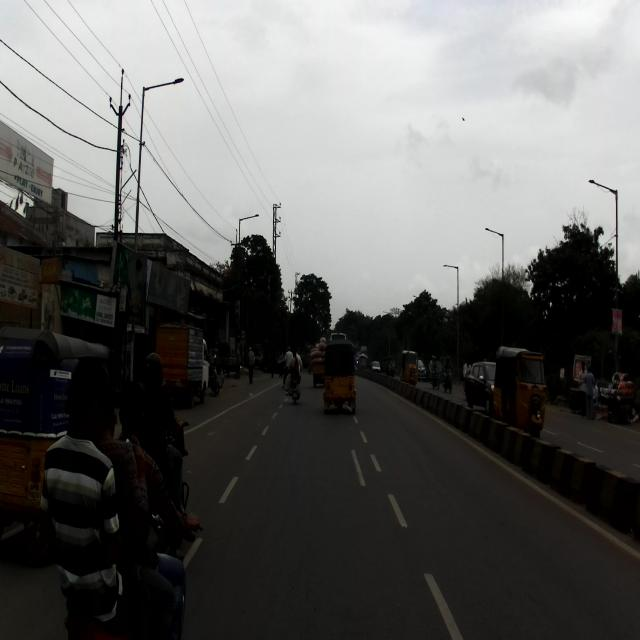autorickshaw: (0, 322, 108, 562), (492, 344, 547, 438)
motorcycle: (56, 507, 205, 638), (144, 420, 193, 513)
scooter: (289, 373, 300, 404)
truck: (151, 322, 212, 401)
